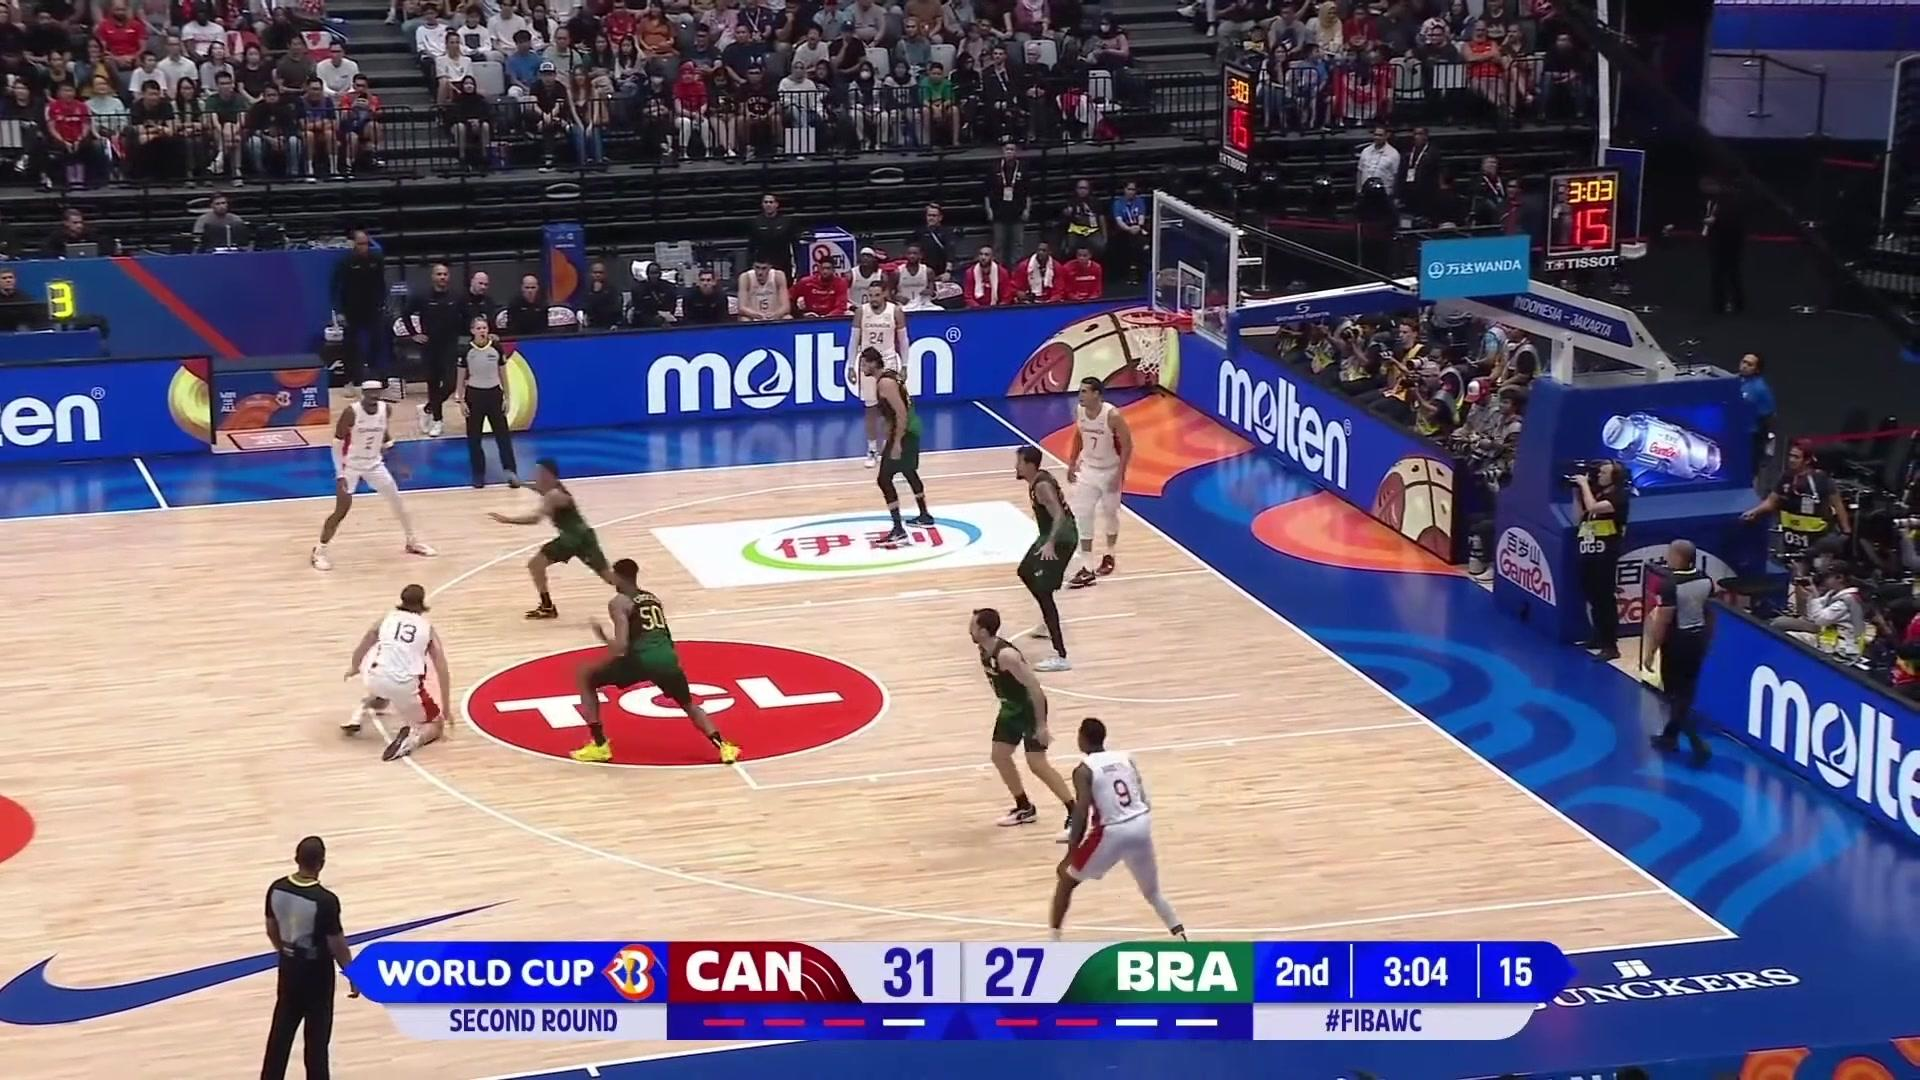foul: (290, 550, 485, 765)
